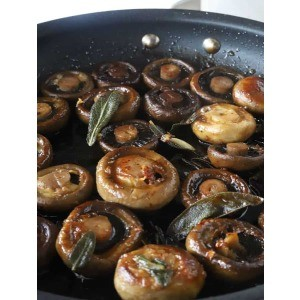mushroom_brain food: (65, 209, 127, 263), (150, 240, 208, 283), (110, 152, 160, 197), (84, 85, 126, 124), (197, 106, 246, 136), (145, 88, 180, 118)
